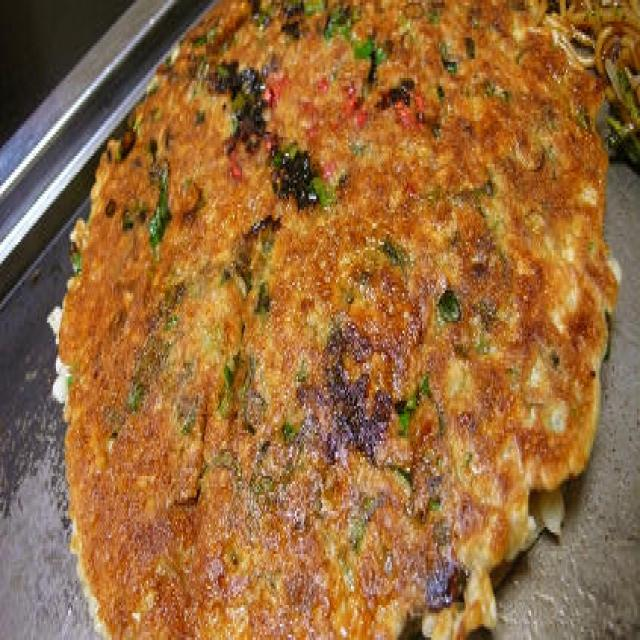蛋糕甜品: (50, 0, 611, 640)
